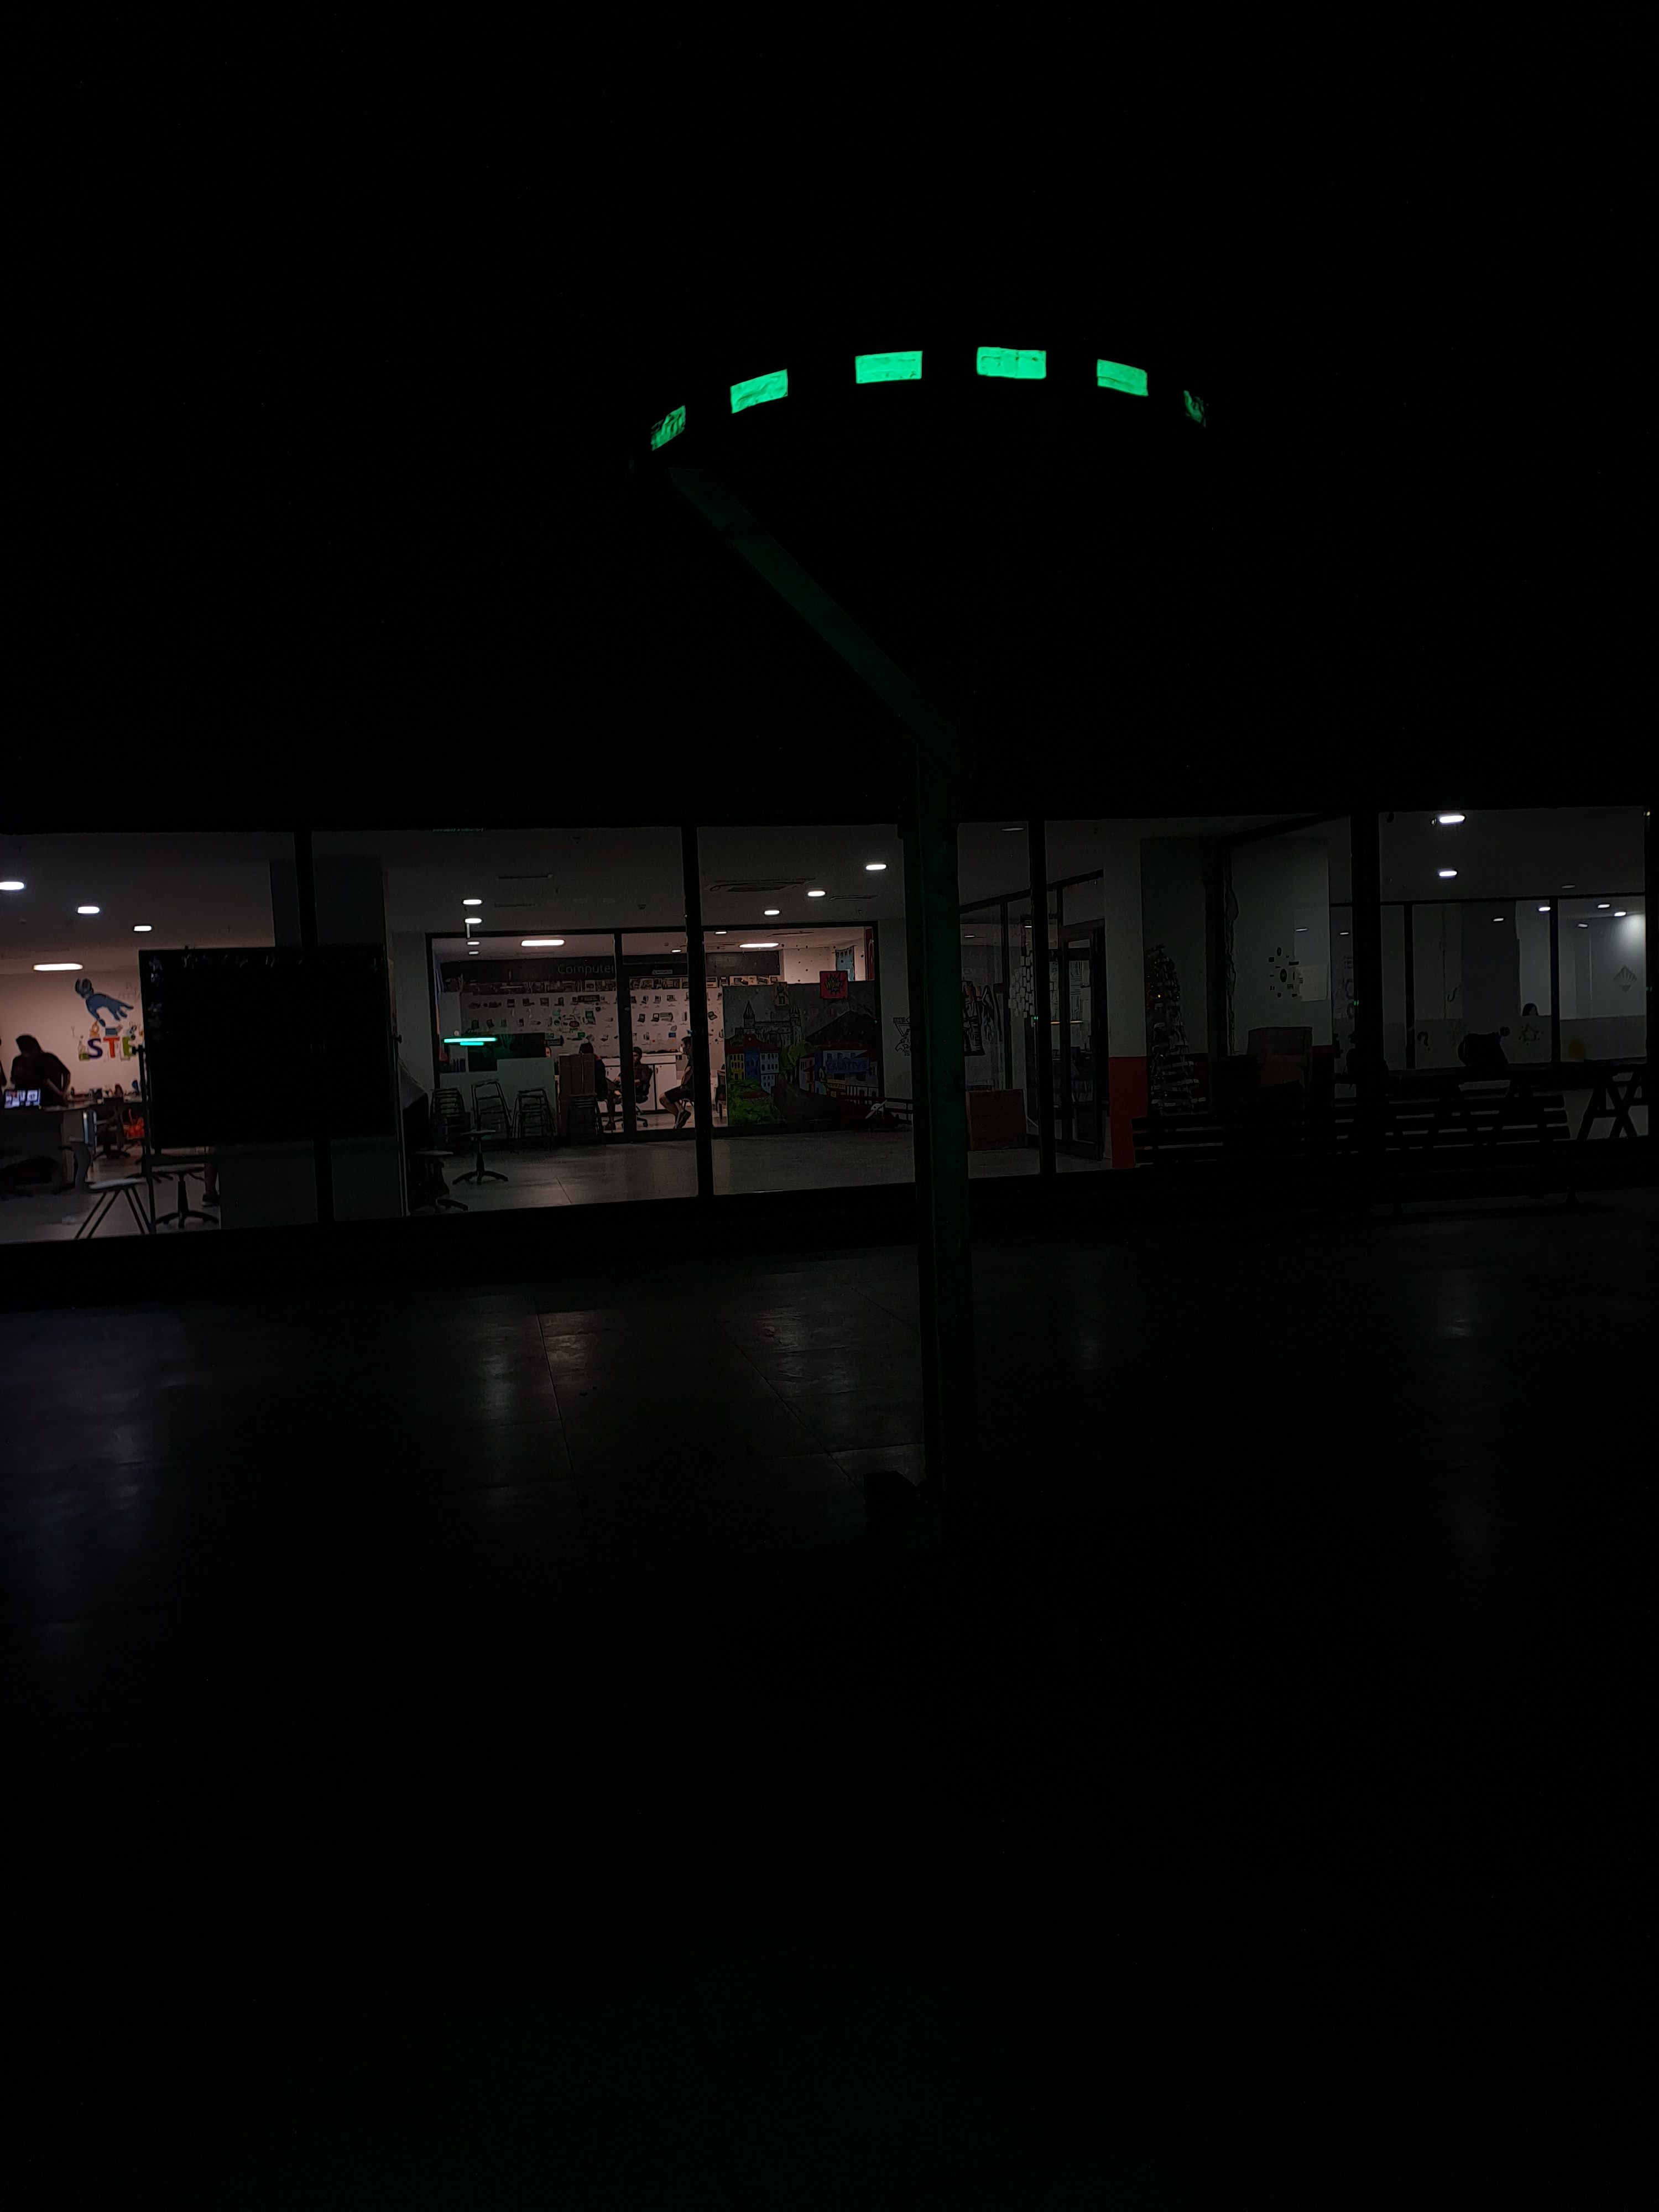hoop: (647, 340, 1209, 460)
